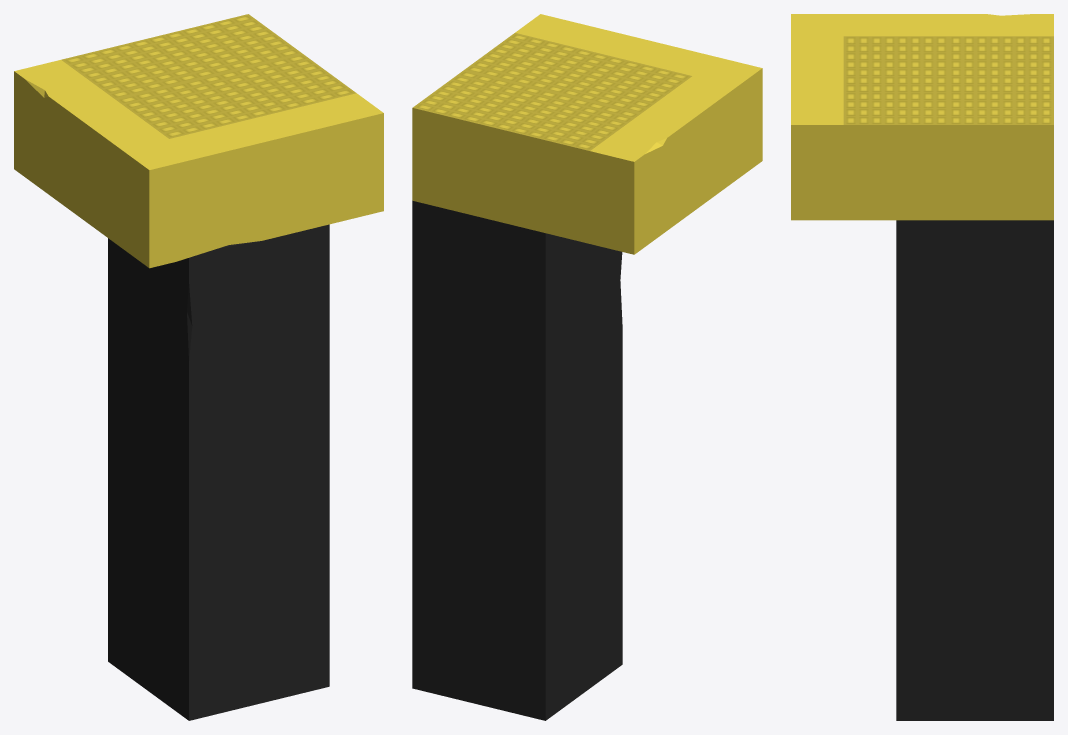
Rendered from SW_ENV_PlatformEdge_A_Crnr_01.fbx.
3 renders of one model, left to right at view 1: azimuth 30°, elevation 25°; view 2: azimuth 150°, elevation 25°; view 3: azimuth 270°, elevation 25°, orthographic. The views are drawn at different scales.
Parts seen in each view (by area): view 1: SW_ENV_PlatformEdge_A_Crnr_01; view 2: SW_ENV_PlatformEdge_A_Crnr_01; view 3: SW_ENV_PlatformEdge_A_Crnr_01.
Part boxes in pixels (<box>): SW_ENV_PlatformEdge_A_Crnr_01: <box>14,14,383,720</box>; SW_ENV_PlatformEdge_A_Crnr_01: <box>412,14,762,720</box>; SW_ENV_PlatformEdge_A_Crnr_01: <box>791,14,1053,720</box>.
Size of the model in its own units: 50 by 125 by 50.
